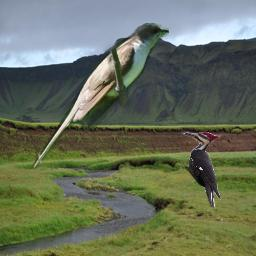Cuckoo: (31, 23, 169, 170)
Woodpecker: (181, 132, 221, 209)
